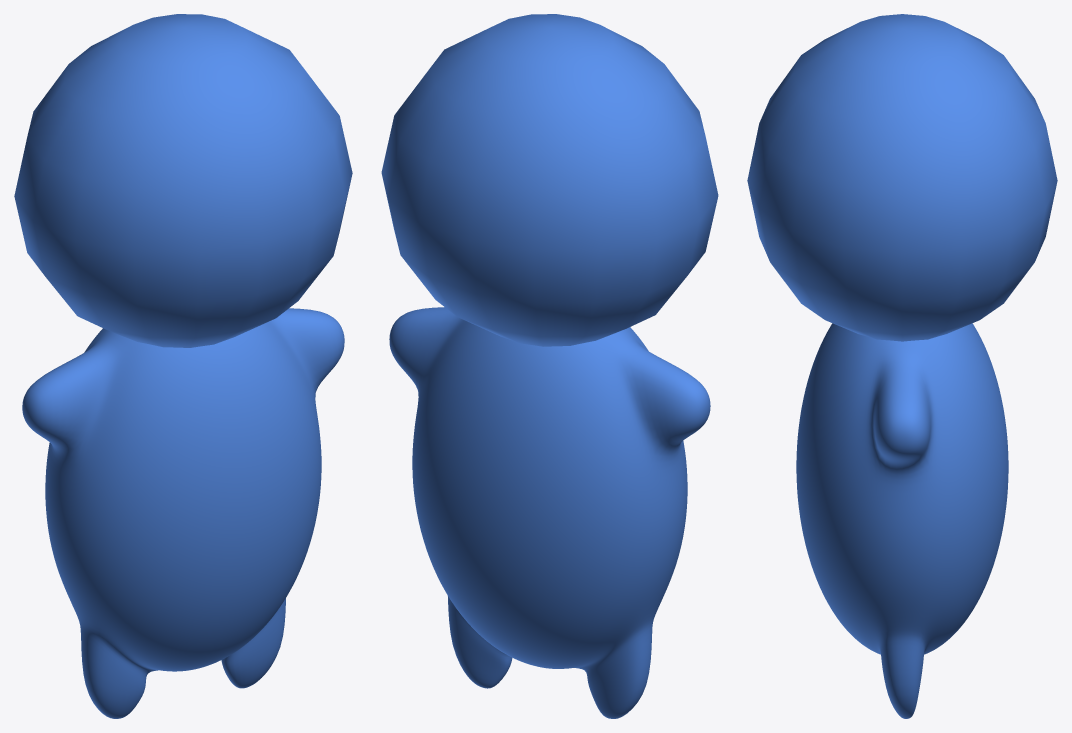
File: body.glb
3 views of the same model, side by side, from view 1: azimuth 30°, elevation 25°; view 2: azimuth 150°, elevation 25°; view 3: azimuth 270°, elevation 25° (orthographic). The views are drawn at different scales.
Parts seen in each view (by area): view 1: Sphere; view 2: Sphere; view 3: Sphere.
Part boxes in pixels (x1,y1,x2,y2): Sphere: (14,14,352,718); Sphere: (381,14,718,718); Sphere: (747,14,1057,718).
Size of the model in its own units: 1.03 by 2.11 by 0.9027.
